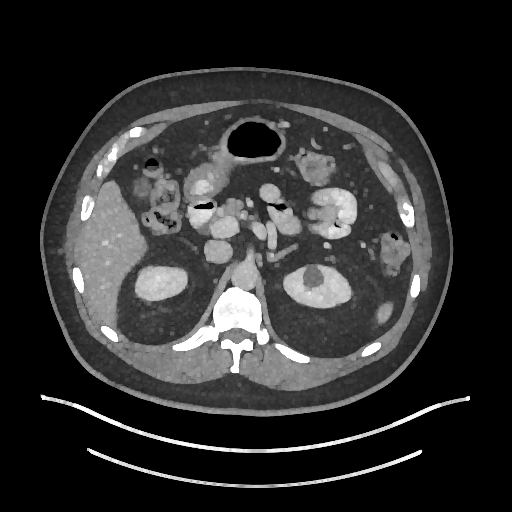Lesion: (299, 261, 329, 291)
